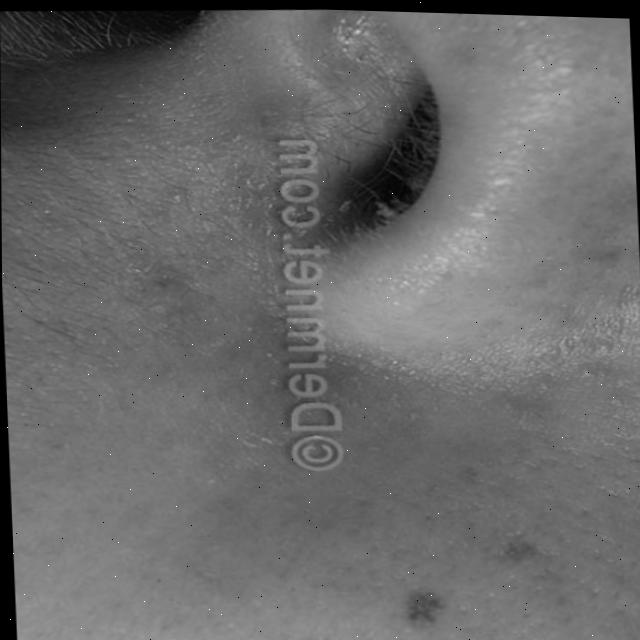Rosacea: (124, 15, 410, 467)
